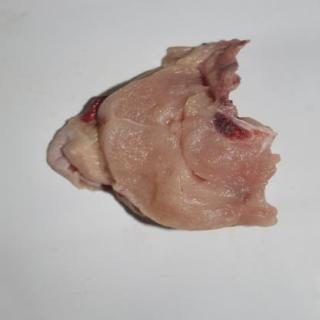Ayam: (47, 42, 281, 229)
